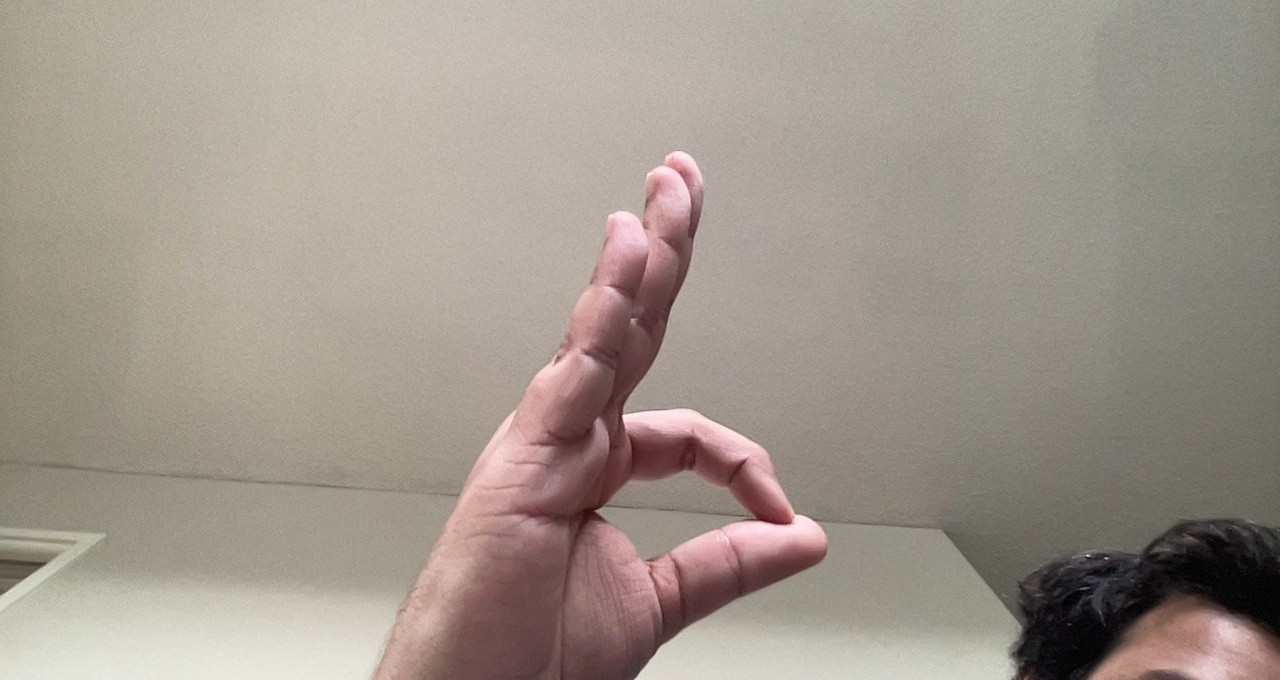ok: (383, 144, 840, 670)
